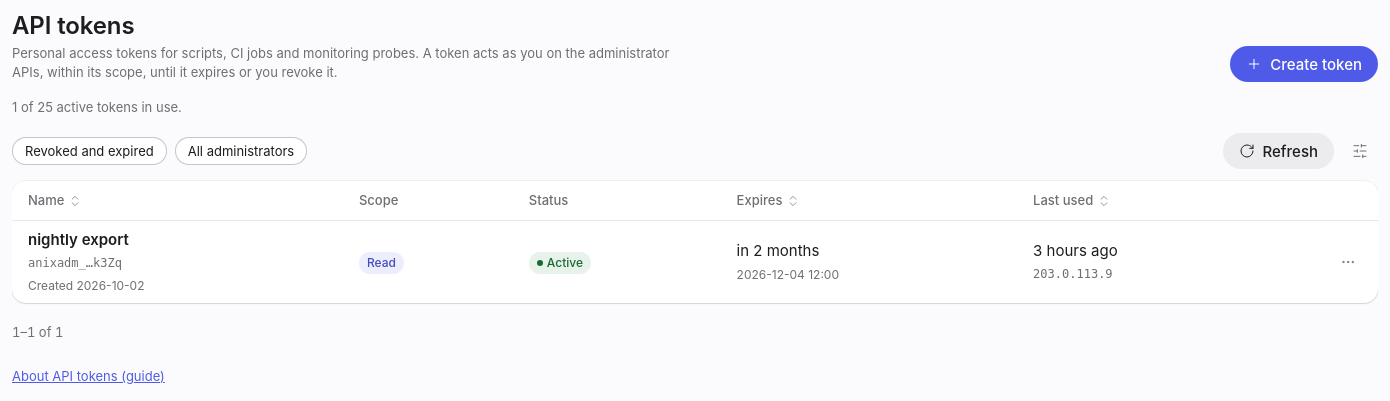
Admin API tokens › replaces the all-administrators chip with a sentence when the route says super_admin_required
Check: the heading "API tokens" is shown, box [12,11,134,40]
Click the button "All administrators".
click(241, 151)  # box [175,137,307,165]
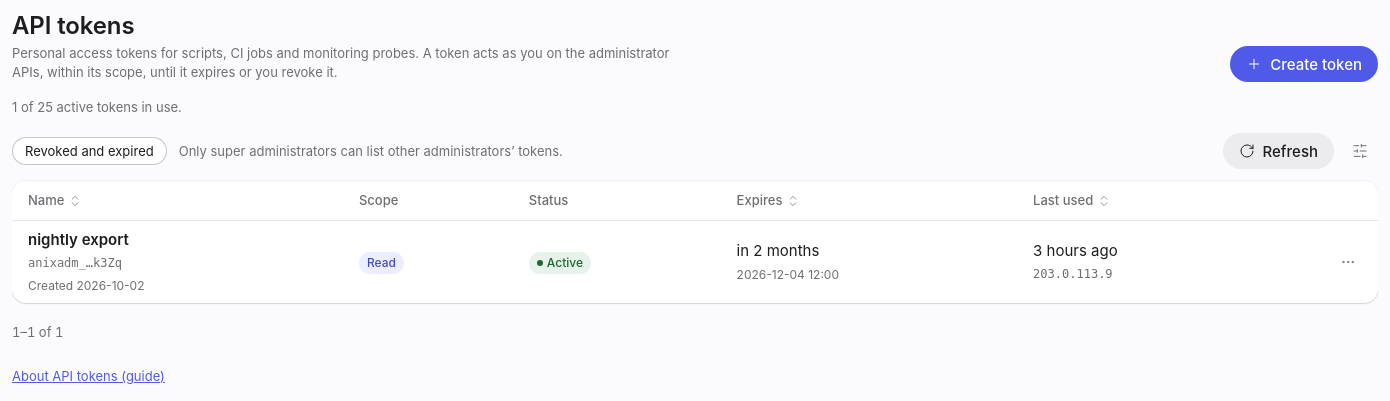
Check: the row "nightly export" is shown, box [12,221,1378,303]
Check: the text with test id "api-tokens-super-only" reads "Only super administrators can list other administrators’ tokens.", box [179,143,563,159]
Check: the button "All administrators" is gone
